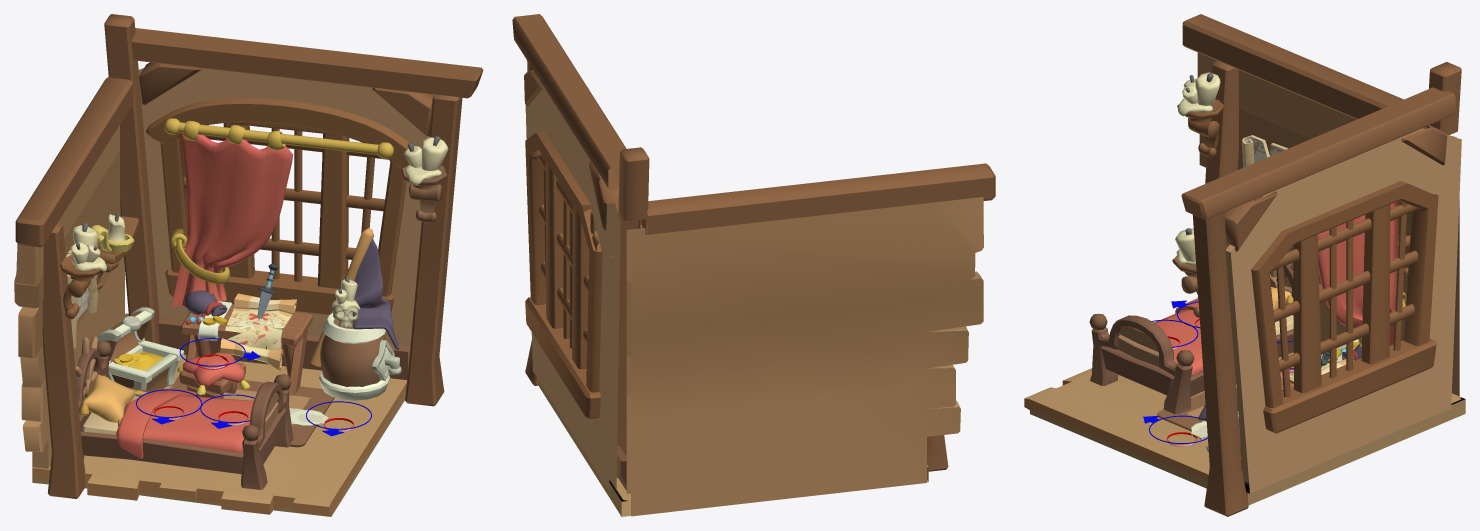
The model's file is Model_pirate_room.fbx.
The picture shows the model from 3 angles, left to right: view 1: azimuth 30°, elevation 25°; view 2: azimuth 150°, elevation 25°; view 3: azimuth 270°, elevation 25°; orthographic projection. The views are drawn at different scales.
Parts seen in each view (by area): view 1: mesh_pirate_lvl_1_wall, mesh_pirate_lvl_1_bed, mesh_pirate_lvl_1_table, mesh_pirate_lvl_1_cupboard, mesh_pirate_lvl_1_shelf, mesh_pirate_lvl_1_rug, mesh_pirate_lvl_1_poster; view 2: mesh_pirate_lvl_1_wall; view 3: mesh_pirate_lvl_1_wall, mesh_pirate_lvl_1_bed, mesh_pirate_lvl_1_rug, mesh_pirate_lvl_1_poster, mesh_pirate_lvl_1_table.
Part boxes in pixels (x1=…): mesh_pirate_lvl_1_wall: x1=14, y1=14, x2=483, y2=516; mesh_pirate_lvl_1_bed: x1=75, y1=336, x2=293, y2=489; mesh_pirate_lvl_1_table: x1=177, y1=264, x2=312, y2=398; mesh_pirate_lvl_1_cupboard: x1=310, y1=228, x2=401, y2=400; mesh_pirate_lvl_1_shelf: x1=92, y1=213, x2=184, y2=391; mesh_pirate_lvl_1_rug: x1=170, y1=375, x2=334, y2=447; mesh_pirate_lvl_1_poster: x1=66, y1=238, x2=97, y2=348; mesh_pirate_lvl_1_wall: x1=512, y1=14, x2=995, y2=516; mesh_pirate_lvl_1_wall: x1=1024, y1=14, x2=1465, y2=516; mesh_pirate_lvl_1_bed: x1=1089, y1=263, x2=1323, y2=414; mesh_pirate_lvl_1_rug: x1=1157, y1=380, x2=1235, y2=439; mesh_pirate_lvl_1_poster: x1=1242, y1=135, x2=1287, y2=167; mesh_pirate_lvl_1_table: x1=1280, y1=344, x2=1361, y2=391.
Bounding box in the file's own units: 754 × 536 × 621.
